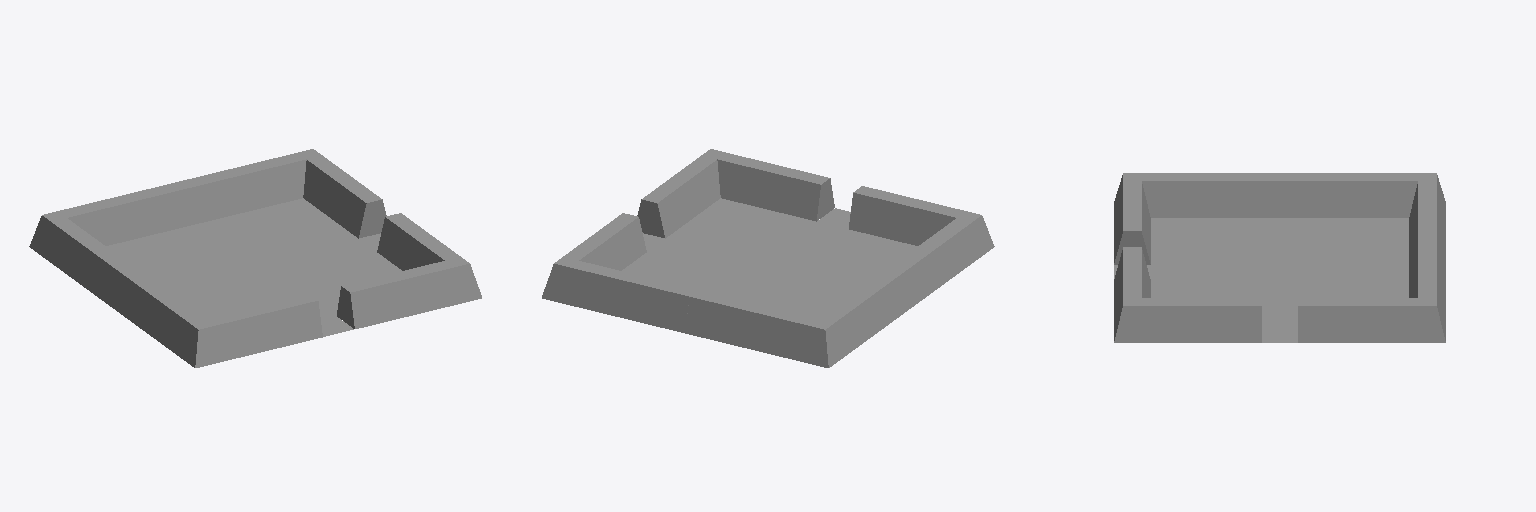
The model's file is sala_7.obj.
3 views of the same model, side by side, from view 1: azimuth 30°, elevation 25°; view 2: azimuth 150°, elevation 25°; view 3: azimuth 270°, elevation 25° (orthographic).
Parts seen in each view (by area): view 1: Ground_Plane.001, Wall.006_Cube.016, Wall.004_Cube.015, Wall.001_Cube.012, Wall.003_Cube.010, Wall.002_Cube.014, Wall.005_Cube.002, Wall.000_Cube.011, Wall.007_Cube.017, Plane.002_Plane.008; view 2: Ground_Plane.001, Wall.003_Cube.010, Wall.001_Cube.012, Wall.006_Cube.016, Wall.005_Cube.002, Wall.002_Cube.014, Wall.004_Cube.015, Wall.007_Cube.017, Wall.000_Cube.011, Plane.002_Plane.008; view 3: Ground_Plane.001, Wall.000_Cube.011, Wall.007_Cube.017, Wall.005_Cube.002, Wall.002_Cube.014, Wall.004_Cube.015, Wall.003_Cube.010, Wall.001_Cube.012, Wall.006_Cube.016, Plane.003_Plane.005.
Boxes of the visible parts, box(x1,y1,x2,y2) form: Ground_Plane.001: box(106, 198, 401, 318); Wall.006_Cube.016: box(337, 261, 481, 328); Wall.004_Cube.015: box(195, 294, 322, 367); Wall.001_Cube.012: box(178, 149, 312, 224); Wall.003_Cube.010: box(44, 182, 190, 245); Wall.002_Cube.014: box(29, 215, 135, 306); Wall.005_Cube.002: box(112, 269, 204, 367); Wall.000_Cube.011: box(303, 149, 386, 238); Wall.007_Cube.017: box(377, 213, 468, 270); Plane.002_Plane.008: box(320, 308, 353, 336); Ground_Plane.001: box(622, 198, 917, 318); Wall.003_Cube.010: box(685, 290, 828, 367); Wall.001_Cube.012: box(542, 261, 697, 332); Wall.006_Cube.016: box(711, 149, 834, 221); Wall.005_Cube.002: box(888, 215, 994, 306); Wall.002_Cube.014: box(819, 269, 911, 367); Wall.004_Cube.015: box(849, 186, 979, 245); Wall.007_Cube.017: box(637, 149, 720, 238); Wall.000_Cube.011: box(555, 213, 646, 270); Plane.002_Plane.008: box(807, 208, 850, 236); Ground_Plane.001: box(1151, 218, 1408, 317); Wall.000_Cube.011: box(1298, 298, 1445, 342); Wall.007_Cube.017: box(1114, 298, 1261, 342); Wall.005_Cube.002: box(1124, 173, 1279, 217); Wall.002_Cube.014: box(1280, 173, 1435, 217); Wall.004_Cube.015: box(1114, 173, 1150, 264); Wall.003_Cube.010: box(1409, 173, 1445, 270); Wall.001_Cube.012: box(1409, 239, 1445, 340); Wall.006_Cube.016: box(1114, 247, 1150, 340); Plane.003_Plane.005: box(1262, 318, 1297, 342).
Size of the model in its own units: 18 by 2 by 18.